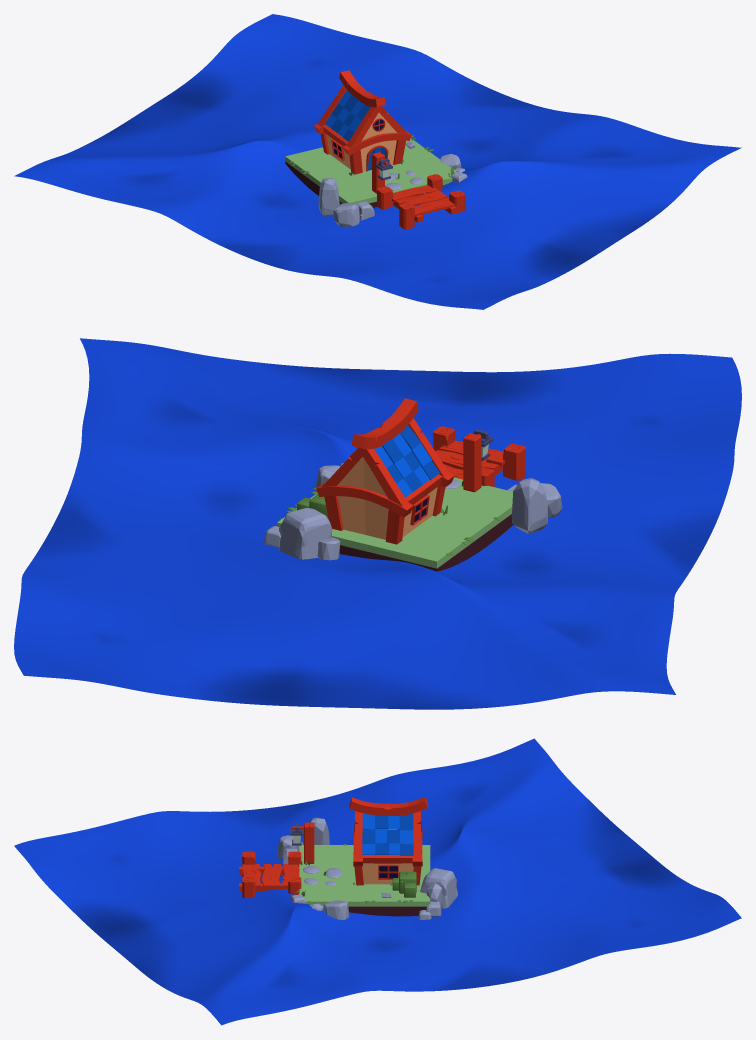
File: house1.glb
3 renders of one model, top to bottom at view 1: azimuth 30°, elevation 25°; view 2: azimuth 150°, elevation 25°; view 3: azimuth 270°, elevation 25°, orthographic. The views are drawn at different scales.
Visible parts, largest first — view 1: Sea, Base, wood, walls, woodup, Cubo.103, Cubo.102; view 2: Sea, Base, wood, walls, Cubo.056, Cubo.103, woodup, Cubo.046, Cubo.045; view 3: Sea, Base, wood, woodup, Cubo.056, walls.
Part boxes in pixels (x1=…): Sea: x1=14, y1=14, x2=741, y2=309; Base: x1=285, y1=138, x2=456, y2=207; wood: x1=314, y1=85, x2=411, y2=174; walls: x1=326, y1=113, x2=396, y2=171; woodup: x1=339, y1=70, x2=385, y2=107; Cubo.103: x1=318, y1=178, x2=339, y2=216; Cubo.102: x1=333, y1=202, x2=360, y2=226; Sea: x1=14, y1=338, x2=741, y2=709; Base: x1=277, y1=477, x2=513, y2=571; wood: x1=316, y1=418, x2=454, y2=544; walls: x1=337, y1=457, x2=437, y2=539; Cubo.056: x1=279, y1=508, x2=332, y2=559; Cubo.103: x1=511, y1=478, x2=547, y2=534; woodup: x1=351, y1=398, x2=418, y2=449; Cubo.046: x1=463, y1=433, x2=481, y2=492; Cubo.045: x1=503, y1=444, x2=525, y2=480; Sea: x1=14, y1=738, x2=741, y2=1025; Base: x1=299, y1=845, x2=430, y2=916; wood: x1=353, y1=811, x2=422, y2=885; woodup: x1=349, y1=797, x2=428, y2=815; Cubo.056: x1=420, y1=868, x2=457, y2=908; walls: x1=362, y1=813, x2=413, y2=884.
Size of the model in its own units: 66.1 by 10.7 by 70.84.
